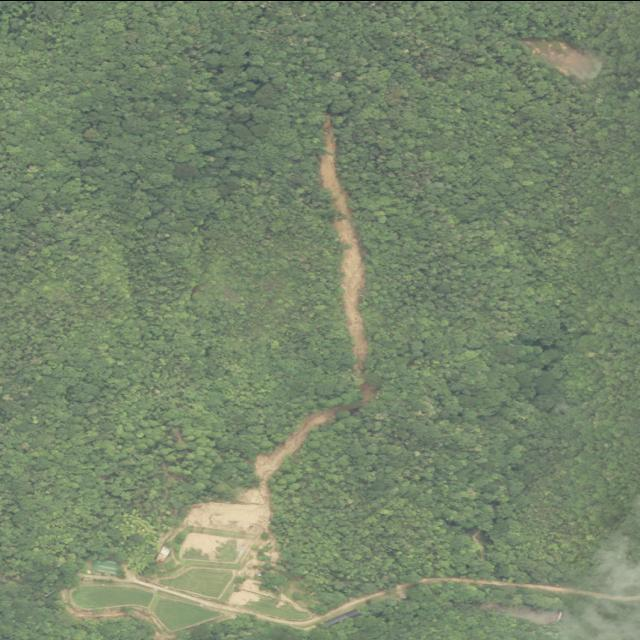landslide: (183, 405, 354, 561), (320, 116, 376, 404), (229, 554, 267, 606)
